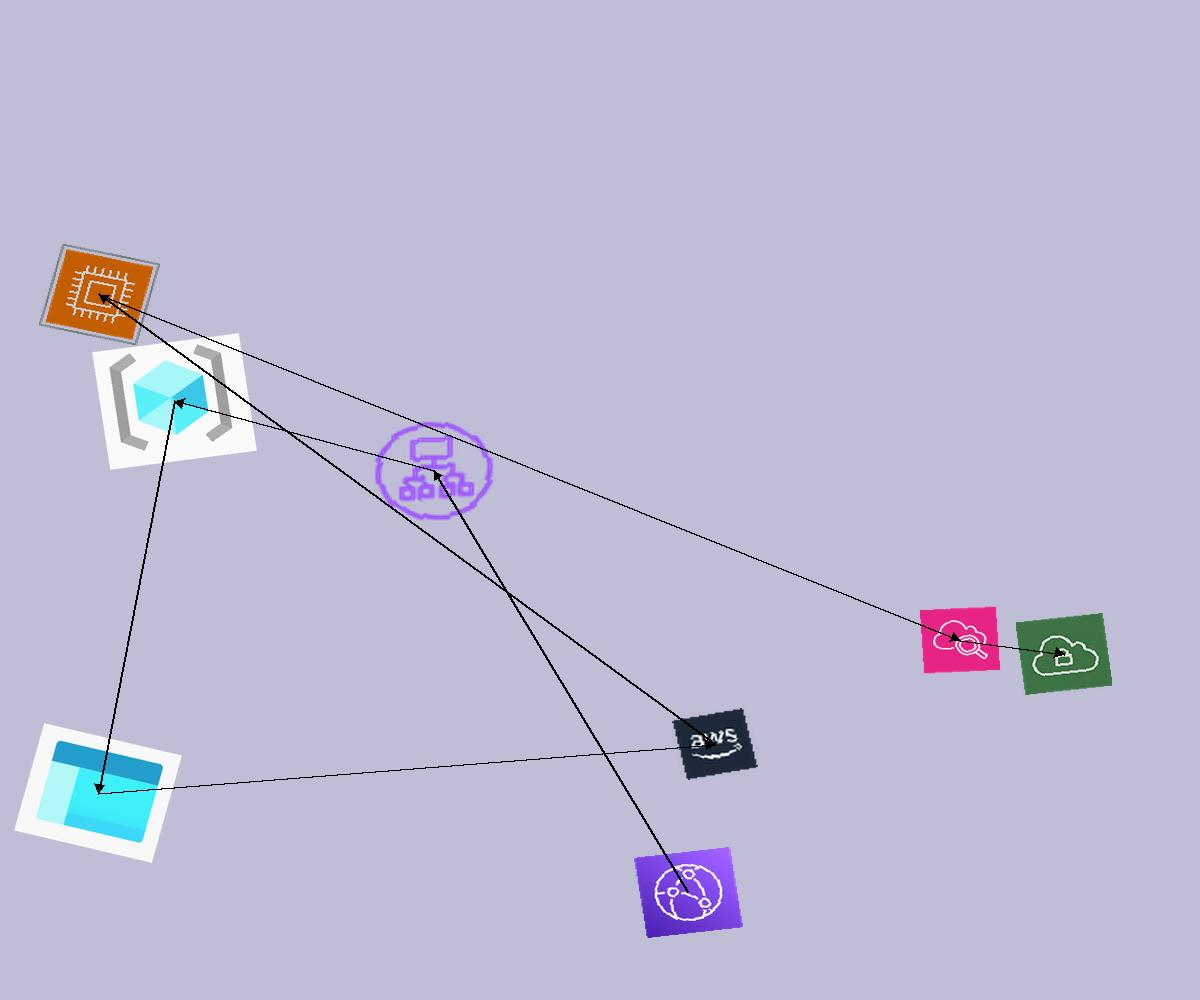AWS-Category_Compute: (38, 243, 161, 346)
AWS-Cloud-logo: (672, 708, 758, 780)
AWS-CloudFront: (633, 846, 744, 939)
AWS-CloudWatch: (919, 606, 1001, 674)
AWS-Private_vpc: (1015, 613, 1113, 695)
AWS-Res_Elastic-Load-Balancing_Application-Load-Balancer: (362, 411, 506, 531)
Azure_management-portal: (14, 723, 182, 863)
Azure_resource_group: (92, 333, 257, 470)
